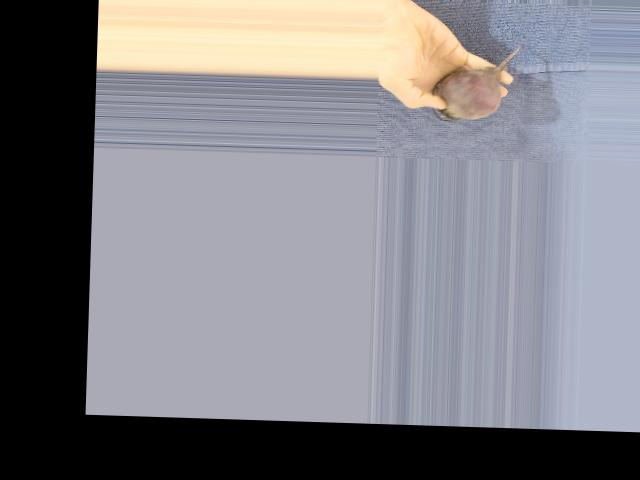beet: (432, 42, 521, 124)
